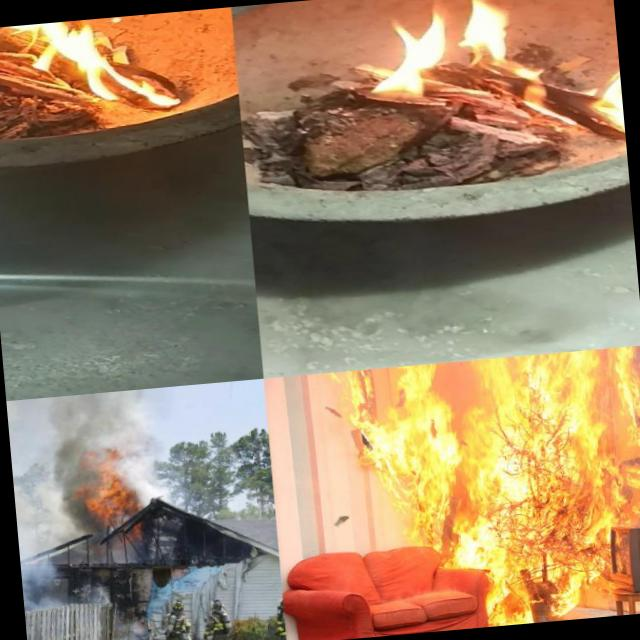fire: (344, 345, 640, 636), (362, 0, 625, 162), (0, 8, 218, 117), (81, 463, 148, 536)
smoke: (31, 392, 107, 538), (6, 399, 48, 610), (95, 388, 156, 468), (46, 554, 112, 610), (110, 611, 151, 640)
